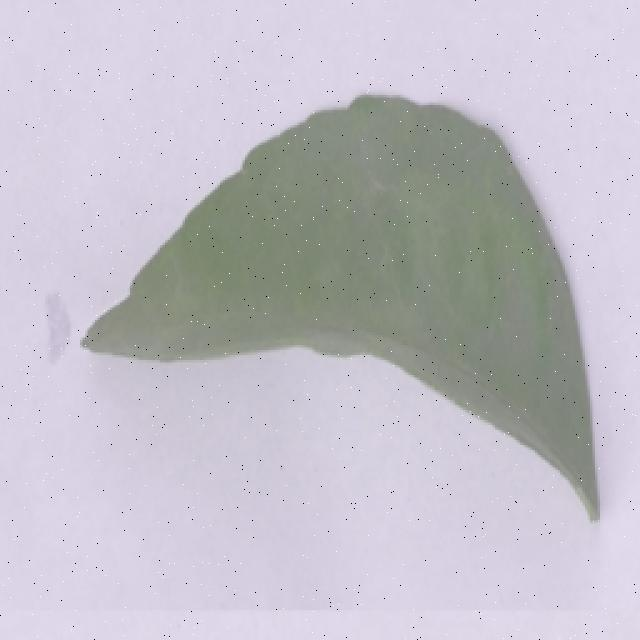greening: (86, 77, 610, 533)
